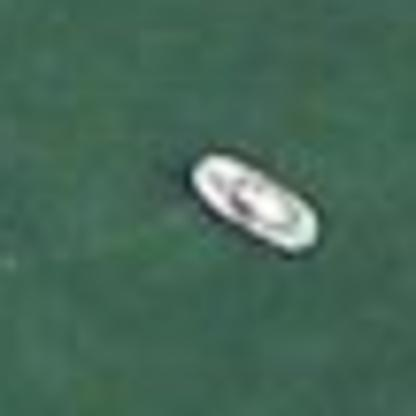ship: (168, 140, 336, 266)
